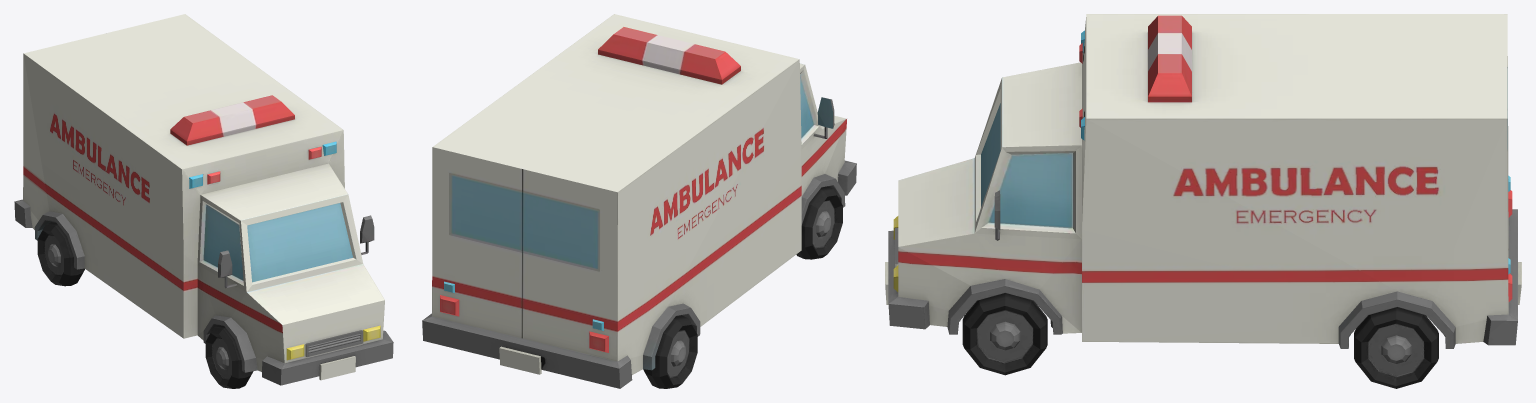
File: Ambulance-transformed.glb
3 renders of one model, left to right at view 1: azimuth 30°, elevation 25°; view 2: azimuth 150°, elevation 25°; view 3: azimuth 270°, elevation 25°, orthographic. The views are drawn at different scales.
Parts seen in each view (by area): view 1: Ambulance_mesh; view 2: Ambulance_mesh; view 3: Ambulance_mesh.
Part boxes in pixels (x1,y1,x2,y2): Ambulance_mesh: (14,14,393,388); Ambulance_mesh: (422,14,856,388); Ambulance_mesh: (885,14,1521,388).
Bounding box in the file's own units: 9.73 × 10.53 × 21.12.
1 material, 1 textured.
